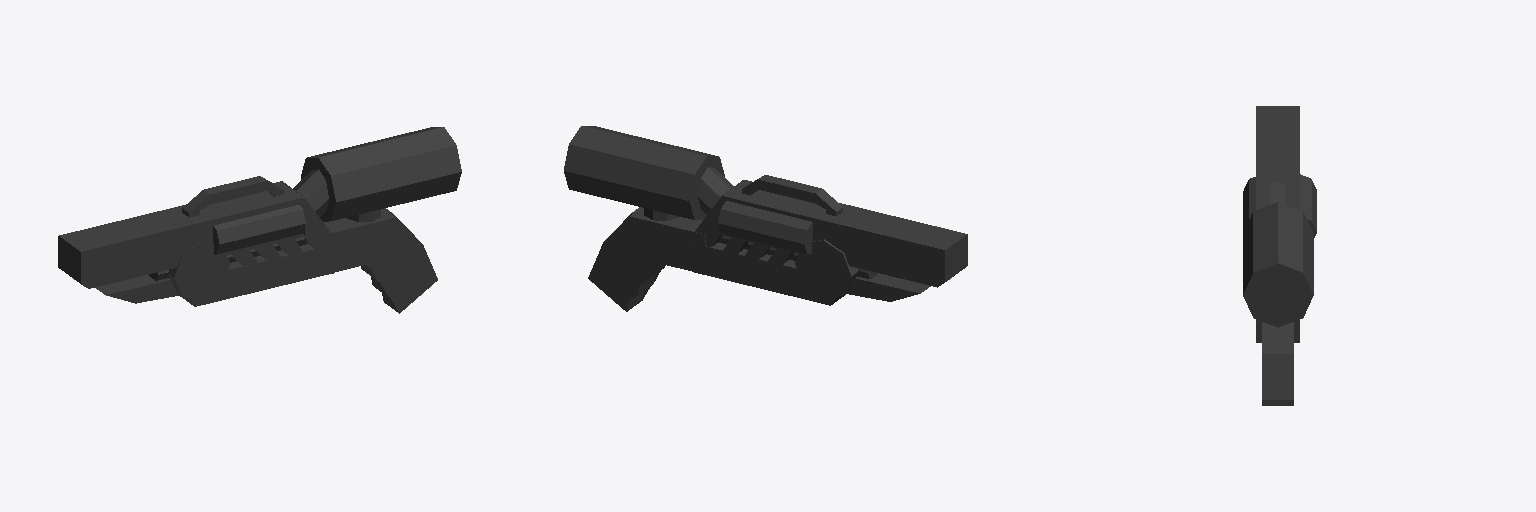
The model's file is Xgun.obj.
3 renders of one model, left to right at view 1: azimuth 30°, elevation 25°; view 2: azimuth 150°, elevation 25°; view 3: azimuth 270°, elevation 25°, orthographic.
Parts seen in each view (by area): view 1: Xgun_notpaint:name17; view 2: Xgun_notpaint:name17; view 3: Xgun_notpaint:name17.
Part boxes in pixels (left/top/right/bottom): Xgun_notpaint:name17: left=58, top=127, right=461, bottom=313; Xgun_notpaint:name17: left=564, top=126, right=967, bottom=311; Xgun_notpaint:name17: left=1243, top=106, right=1316, bottom=405.
Size of the model in its own units: 1.86 by 0.7986 by 0.319.